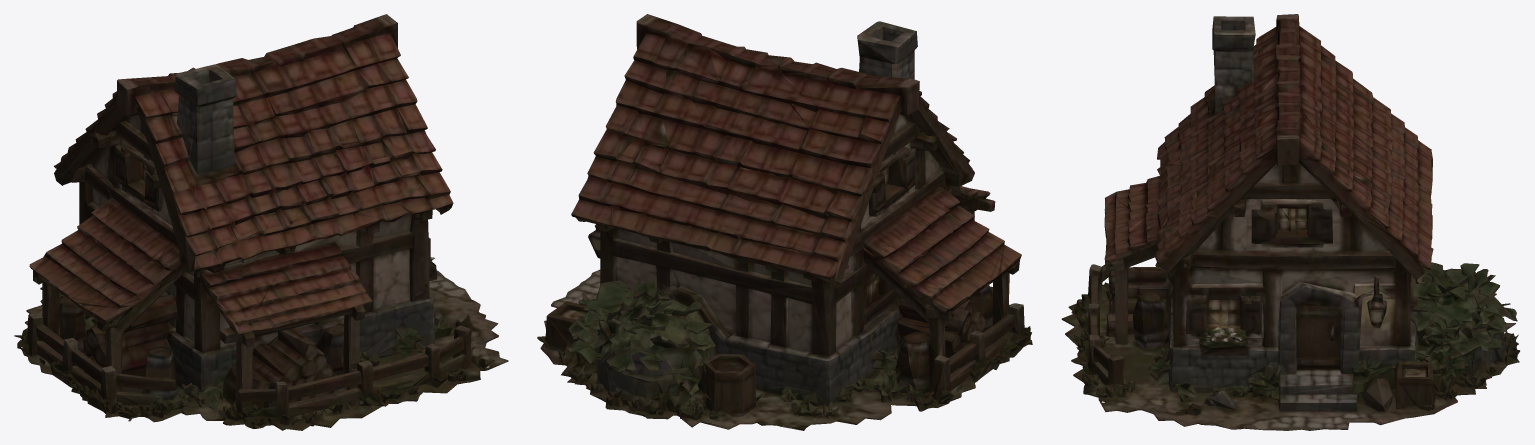
Rendered from war_house_01.glb.
3 views of the same model, side by side, from view 1: azimuth 30°, elevation 25°; view 2: azimuth 150°, elevation 25°; view 3: azimuth 270°, elevation 25° (orthographic). The views are drawn at different scales.
Visible parts, largest first — view 1: geometry_0; view 2: geometry_0; view 3: geometry_0.
Boxes of the visible parts, left/top/right/bottom form: geometry_0: left=14, top=14, right=508, bottom=430; geometry_0: left=537, top=14, right=1032, bottom=430; geometry_0: left=1061, top=14, right=1519, bottom=430.
Size of the model in its own units: 0.9625 by 0.6807 by 1.
1 material, 1 textured.
